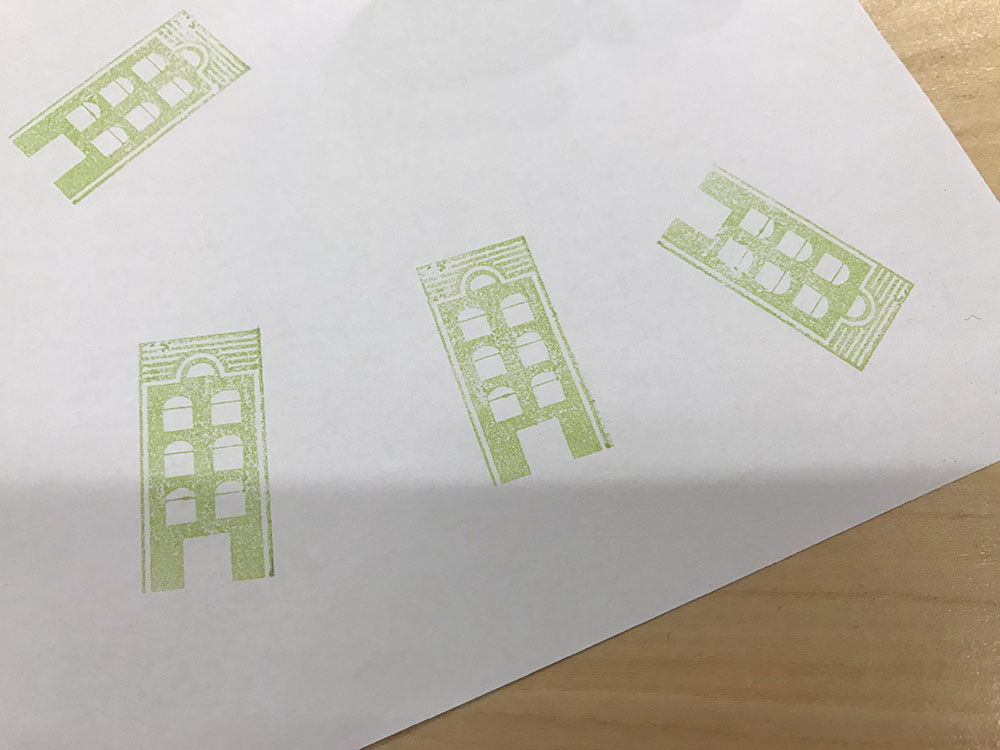build: (641, 147, 926, 393), (401, 212, 628, 494), (1, 5, 287, 222), (109, 312, 312, 606)
